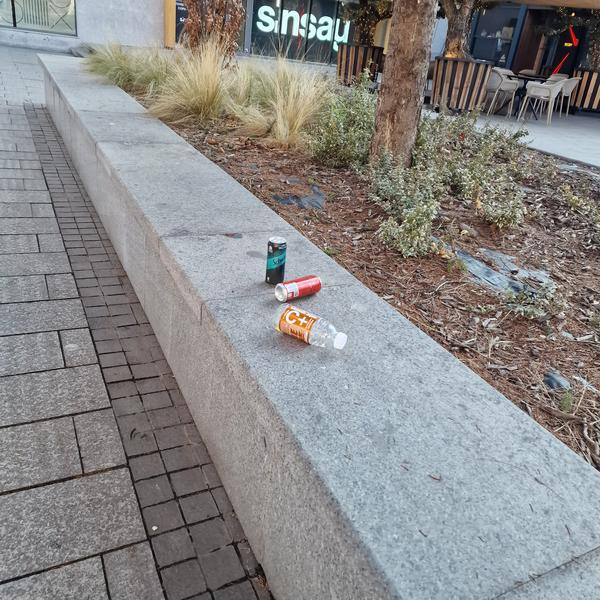can: (273, 273, 325, 304), (264, 235, 288, 288)
plastic_bottle: (269, 300, 352, 358)
